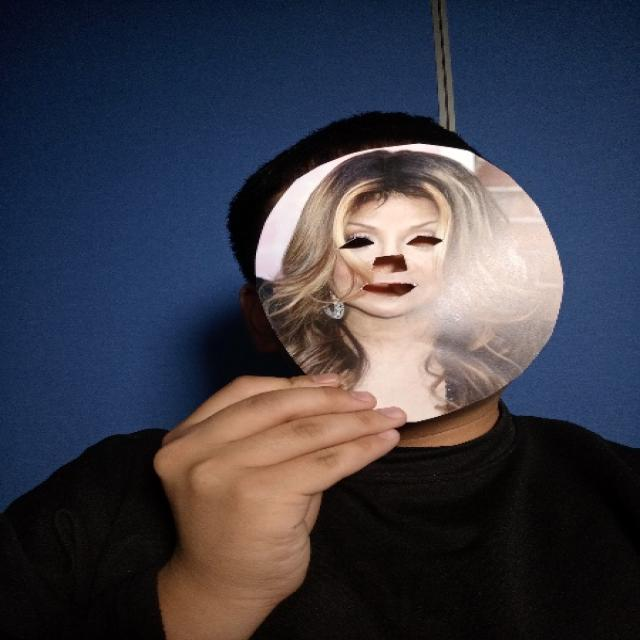mask: (253, 145, 565, 429)
